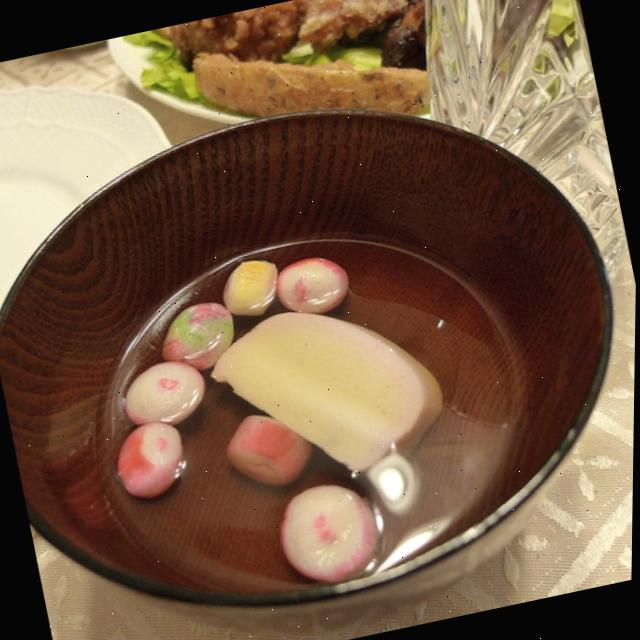汤锅炖物: (0, 83, 639, 640)
